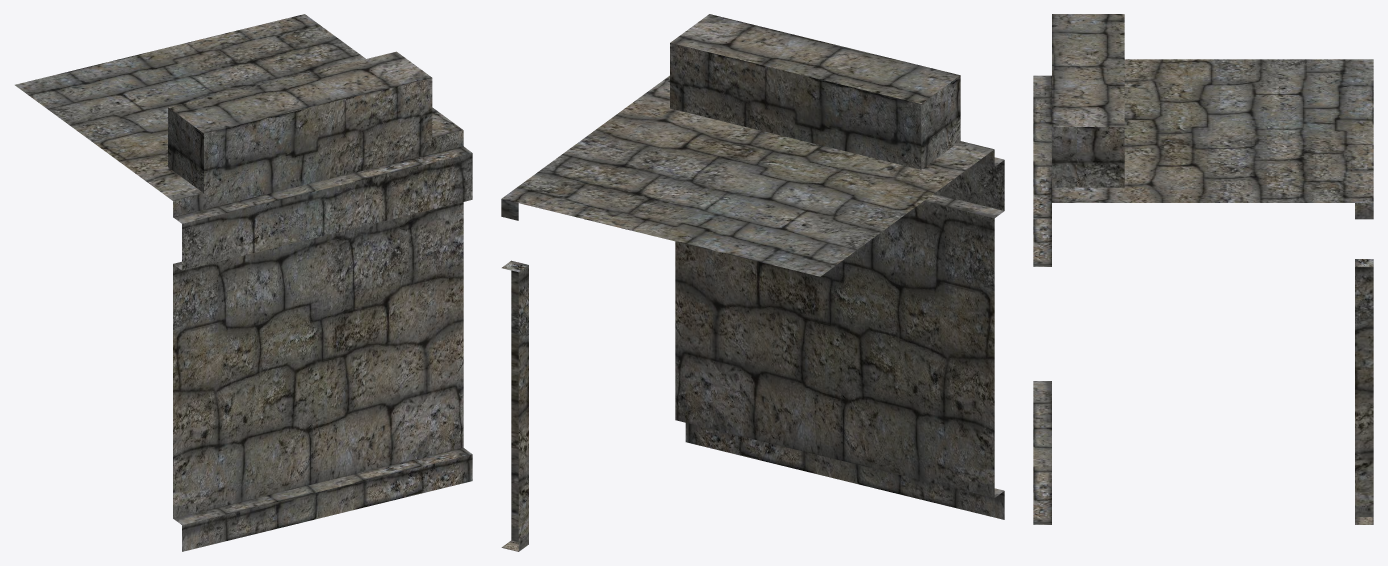
The model's file is Fort_10001011.gltf.
3 views of the same model, side by side, from view 1: azimuth 30°, elevation 25°; view 2: azimuth 150°, elevation 25°; view 3: azimuth 270°, elevation 25° (orthographic). The views are drawn at different scales.
Visible parts, largest first — view 1: Claimed_10001011; view 2: Claimed_10001011; view 3: Claimed_10001011.
Boxes of the visible parts, bbox=[...] form: Claimed_10001011: bbox=[15, 14, 472, 551]; Claimed_10001011: bbox=[501, 14, 1004, 551]; Claimed_10001011: bbox=[1033, 14, 1373, 524].
Bounding box in the file's own units: 2.5 × 3.32 × 2.5.
1 material, 1 textured.
